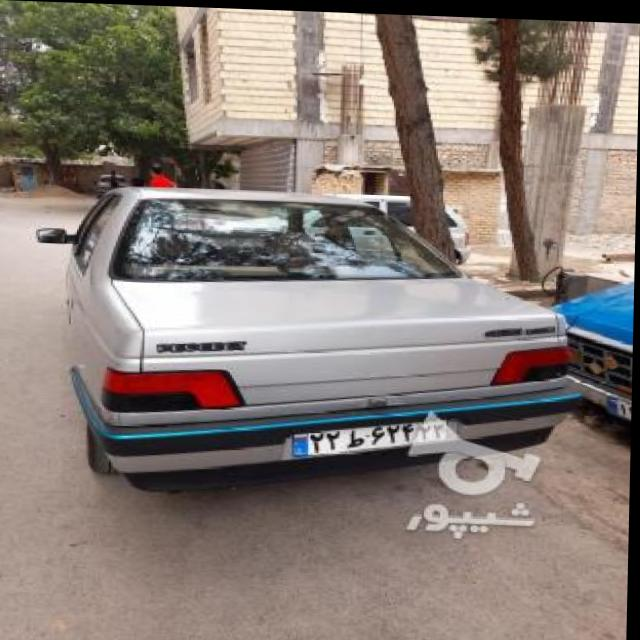licence: (288, 406, 455, 464)
